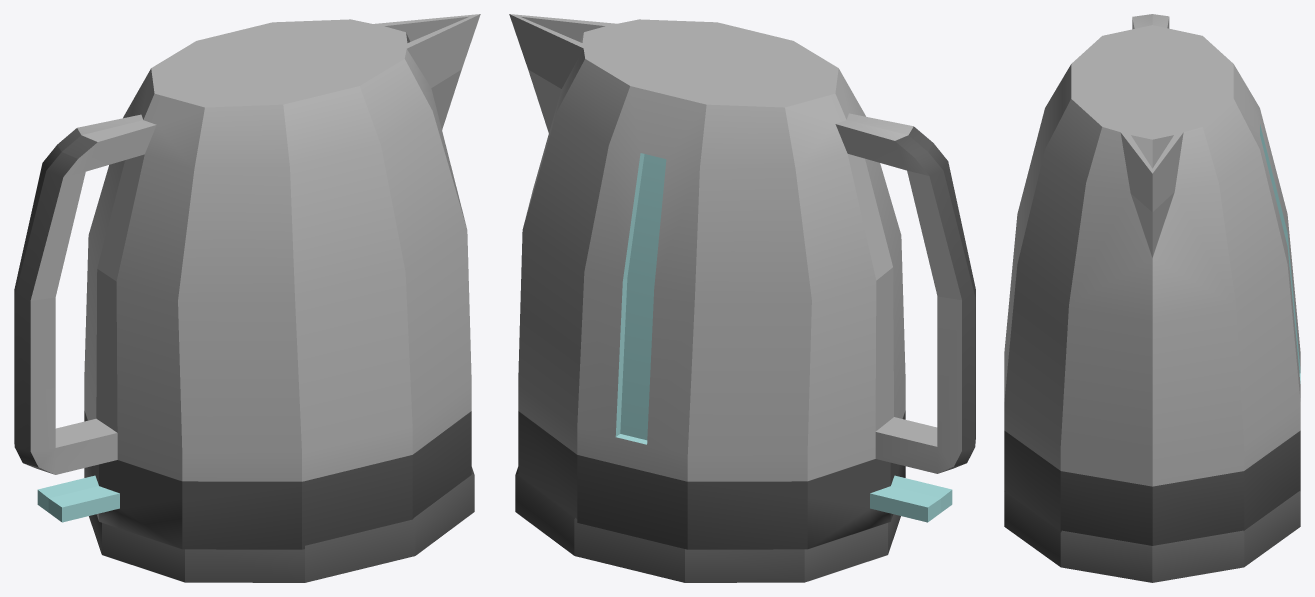
The model's file is KETTLE.fbx.
3 views of the same model, side by side, from view 1: azimuth 30°, elevation 25°; view 2: azimuth 150°, elevation 25°; view 3: azimuth 270°, elevation 25° (orthographic). The views are drawn at different scales.
Parts seen in each view (by area): view 1: KettleBody, KettleBase; view 2: KettleBody, KettleBase; view 3: KettleBody, KettleBase.
Boxes of the visible parts, box(x1,y1,x2,y2) form: KettleBody: box(14, 14, 480, 549); KettleBase: box(89, 467, 474, 582); KettleBody: box(509, 14, 975, 549); KettleBase: box(515, 467, 900, 582); KettleBody: box(1004, 14, 1300, 545); KettleBase: box(1004, 491, 1300, 582).
Size of the model in its own units: 49.2 by 45.25 by 29.05.
